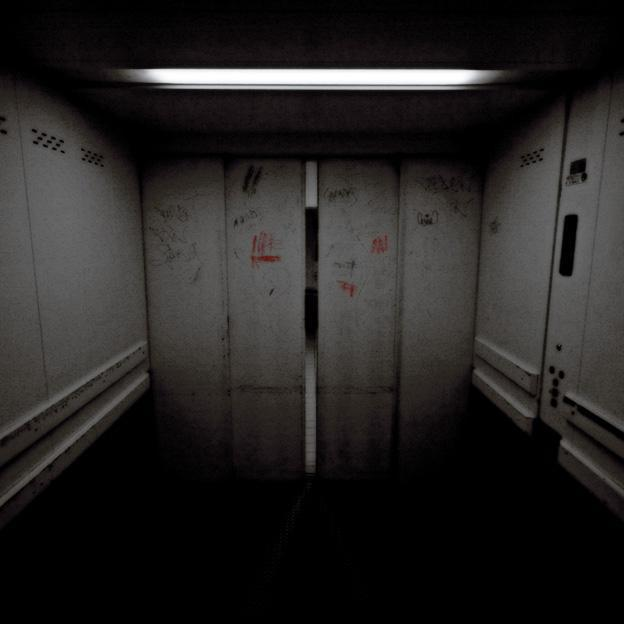Puerta: (221, 159, 396, 484)
